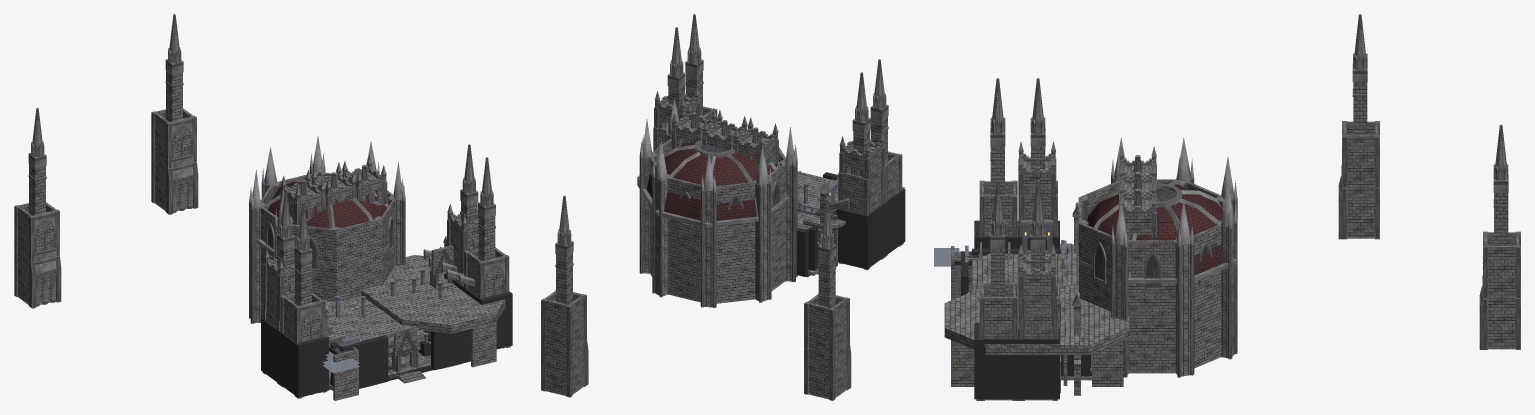
Rendered from ashen_courtyard.glb.
The picture shows the model from 3 angles, left to right: view 1: azimuth 30°, elevation 25°; view 2: azimuth 150°, elevation 25°; view 3: azimuth 270°, elevation 25°; orthographic projection. The views are drawn at different scales.
Parts seen in each view (by area): view 1: VIS_CathUpper, VIS_SilFar_0, VIS_SilFar_1, VIS_GalE_Floor_0, COL_Shell_SW, VIS_CathRoof, VIS_GalE_Floor_2, VIS_ShellBase_SW, VIS_ShellBase_SE, VIS_CathSanctum, VIS_CloisterBridge_Floor_0, COL_CourtWall_SL (+20 smaller); view 2: VIS_CathUpper, VIS_CathSanctum, VIS_CathRoof, VIS_SilFar_1, VIS_SilFar_0, COL_Shell_W, VIS_ShellBase_W, VIS_ShellCap_W, VIS_SilFar_1t, VIS_SilFar_0t, VIS_SpireTip_0, COL_Shell_SW (+12 smaller); view 3: VIS_CathUpper, VIS_CathSanctum, VIS_CathRoof, VIS_SilFar_0, VIS_SilFar_1, VIS_GalE_Floor_2, VIS_GalE_Floor_0, COL_Shell_SE, COL_Shell_E, VIS_ShellCap_E, VIS_ShellBase_SE, VIS_ShellCap_W (+17 smaller).
Boxes of the visible parts, x1,y1,x2,y2 form: VIS_CathUpper: [249, 135, 405, 296]; VIS_SilFar_0: [151, 108, 198, 214]; VIS_SilFar_1: [14, 202, 61, 308]; VIS_GalE_Floor_0: [376, 270, 505, 333]; COL_Shell_SW: [278, 331, 328, 397]; VIS_CathRoof: [257, 172, 395, 265]; VIS_GalE_Floor_2: [361, 255, 474, 310]; VIS_ShellBase_SW: [280, 292, 327, 398]; VIS_ShellBase_SE: [464, 247, 510, 348]; VIS_CathSanctum: [249, 248, 405, 323]; VIS_CloisterBridge_Floor_0: [327, 295, 400, 340]; COL_CourtWall_SL: [339, 335, 388, 388]; VIS_CathUpper: [639, 98, 797, 259]; VIS_CathSanctum: [639, 213, 797, 308]; VIS_CathRoof: [642, 140, 789, 227]; VIS_SilFar_1: [804, 293, 851, 400]; VIS_SilFar_0: [541, 289, 588, 397]; COL_Shell_W: [836, 203, 885, 268]; VIS_ShellBase_W: [838, 168, 885, 270]; VIS_ShellCap_W: [839, 132, 884, 204]; VIS_SilFar_1t: [818, 198, 836, 307]; VIS_SilFar_0t: [555, 195, 573, 304]; VIS_SpireTip_0: [733, 117, 778, 168]; COL_Shell_SW: [884, 188, 905, 255]; VIS_CathUpper: [1078, 137, 1237, 322]; VIS_CathSanctum: [1111, 280, 1237, 377]; VIS_CathRoof: [1079, 180, 1236, 283]; VIS_SilFar_0: [1479, 231, 1520, 349]; VIS_SilFar_1: [1338, 121, 1379, 239]; VIS_GalE_Floor_2: [1029, 285, 1129, 354]; VIS_GalE_Floor_0: [944, 286, 1085, 354]; COL_Shell_SE: [974, 323, 1019, 399]; COL_Shell_E: [1014, 329, 1059, 399]; VIS_ShellCap_E: [1018, 243, 1056, 327]; VIS_ShellBase_SE: [976, 282, 1017, 400]; VIS_ShellCap_W: [1018, 141, 1056, 225].
Bounding box in the file's own units: 42.09 × 23.76 × 58.3.
Materials: 44 (42 with a texture image).
